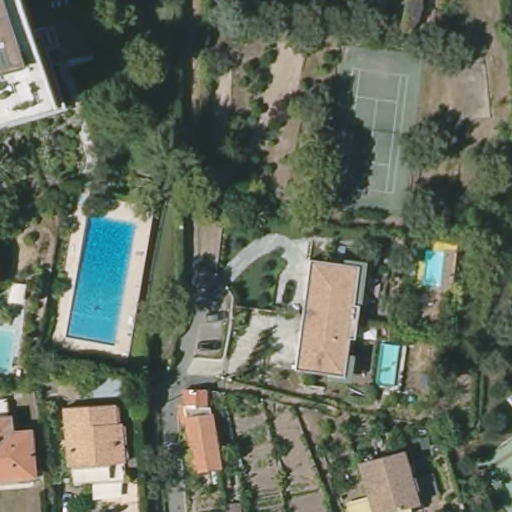pool: (70, 217, 143, 353), (371, 335, 407, 392), (420, 246, 447, 292), (1, 325, 22, 377)
